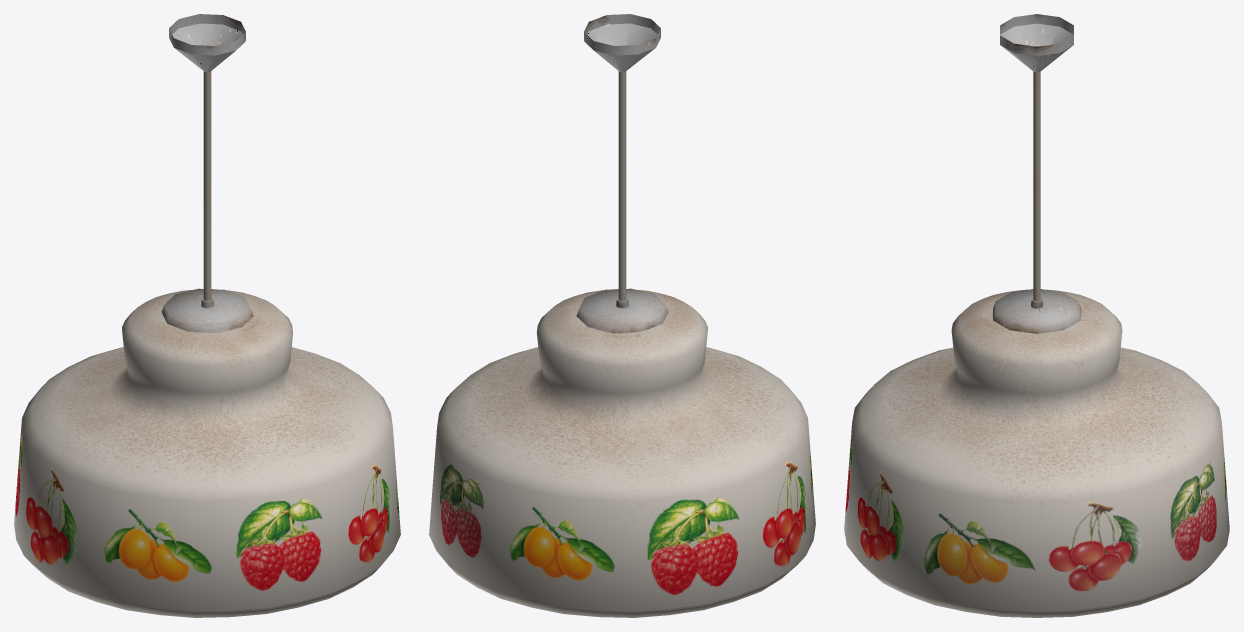
Rendered from Chandelier01.FBX.
3 views of the same model, side by side, from view 1: azimuth 30°, elevation 25°; view 2: azimuth 150°, elevation 25°; view 3: azimuth 270°, elevation 25° (orthographic).
Visible parts, largest first — view 1: Chandelier01_LOD0; view 2: Chandelier01_LOD0; view 3: Chandelier01_LOD0.
Boxes of the visible parts, x1,y1,x2,y2 form: Chandelier01_LOD0: [14, 14, 400, 617]; Chandelier01_LOD0: [429, 14, 815, 617]; Chandelier01_LOD0: [844, 14, 1229, 617].
Bounding box in the file's own units: 43.84 × 43.84 × 67.02.
